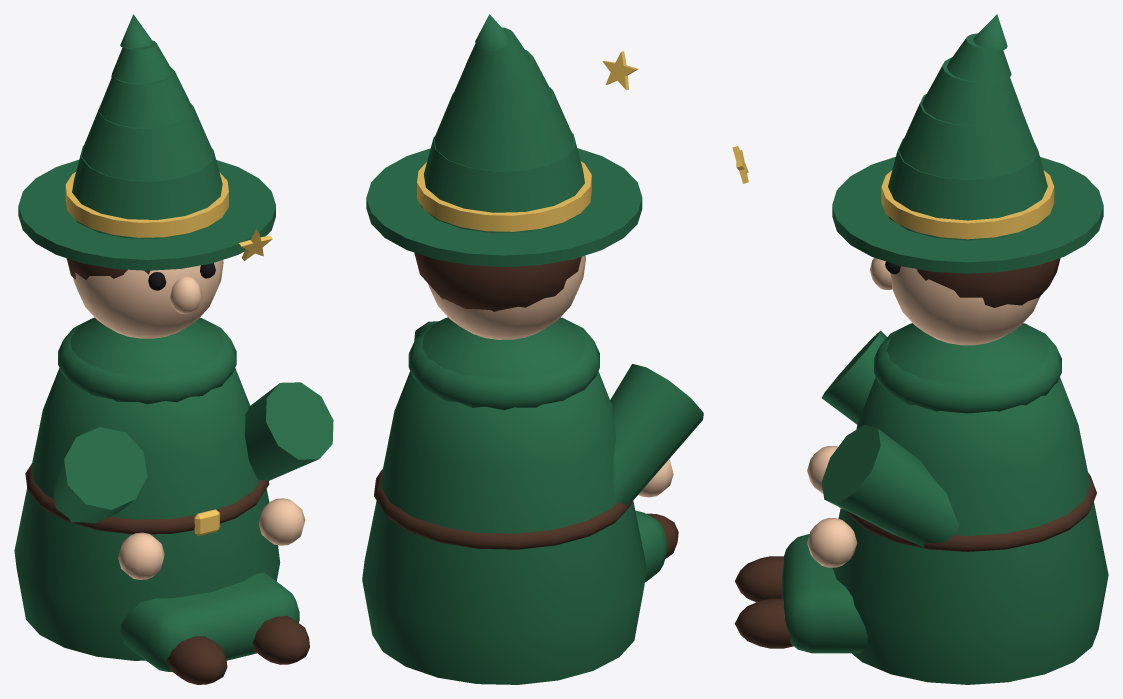
Rendered from magic_wizard_emerald.glb.
3 views of the same model, side by side, from view 1: azimuth 30°, elevation 25°; view 2: azimuth 150°, elevation 25°; view 3: azimuth 270°, elevation 25° (orthographic). The views are drawn at different scales.
Visible parts, largest first — view 1: magic_wizard_emerald; view 2: magic_wizard_emerald; view 3: magic_wizard_emerald.
Boxes of the visible parts, x1,y1,x2,y2 form: magic_wizard_emerald: [14, 14, 333, 684]; magic_wizard_emerald: [362, 14, 703, 684]; magic_wizard_emerald: [732, 14, 1108, 684].
Bounding box in the file's own units: 0.6432 × 1.35 × 0.7487.
